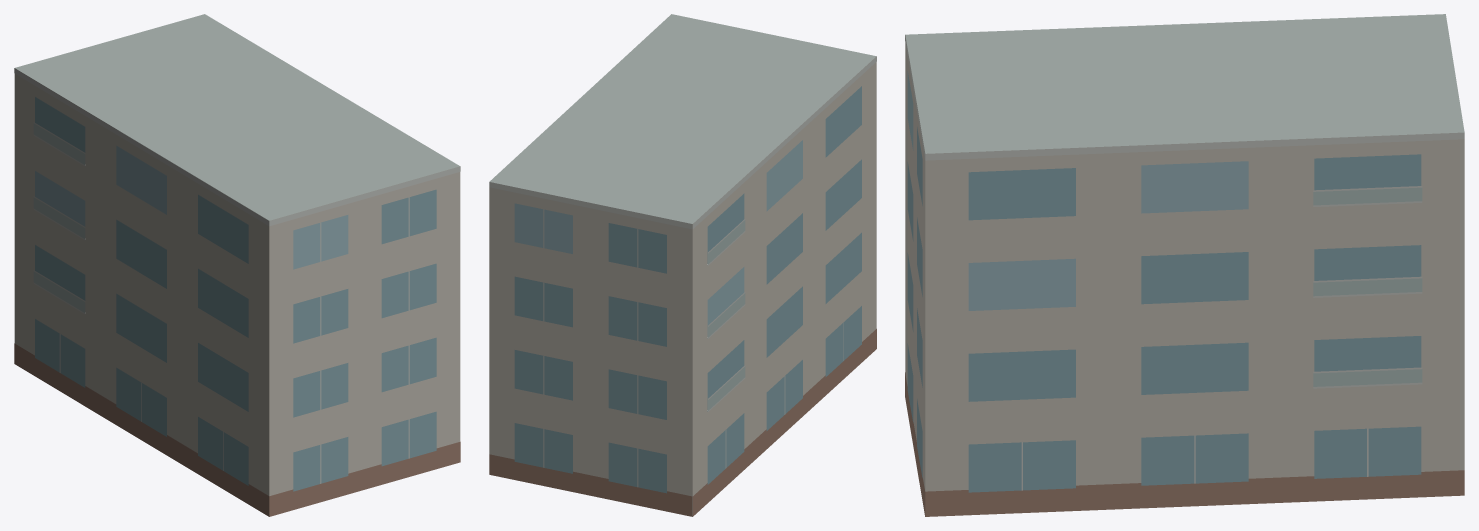
The model's file is survey-upis-32605943.glb.
3 views of the same model, side by side, from view 1: azimuth 30°, elevation 25°; view 2: azimuth 150°, elevation 25°; view 3: azimuth 270°, elevation 25° (orthographic). The views are drawn at different scales.
Visible parts, largest first — view 1: survey-upis-32605943.tmp; view 2: survey-upis-32605943.tmp; view 3: survey-upis-32605943.tmp.
Part boxes in pixels (box(x1,y1,x2,y2)): survey-upis-32605943.tmp: box(14, 14, 460, 516); survey-upis-32605943.tmp: box(489, 14, 876, 516); survey-upis-32605943.tmp: box(905, 14, 1464, 516).
Bounding box in the file's own units: 10.91 × 13.2 × 18.44.
